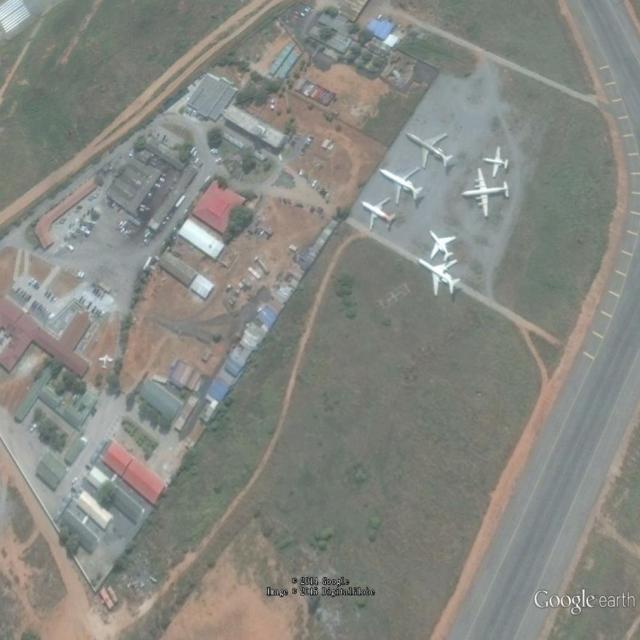aircraft: (461, 165, 513, 219), (415, 253, 463, 301), (375, 163, 427, 207), (404, 130, 456, 171), (359, 196, 400, 235), (479, 144, 513, 181), (428, 229, 460, 263)
